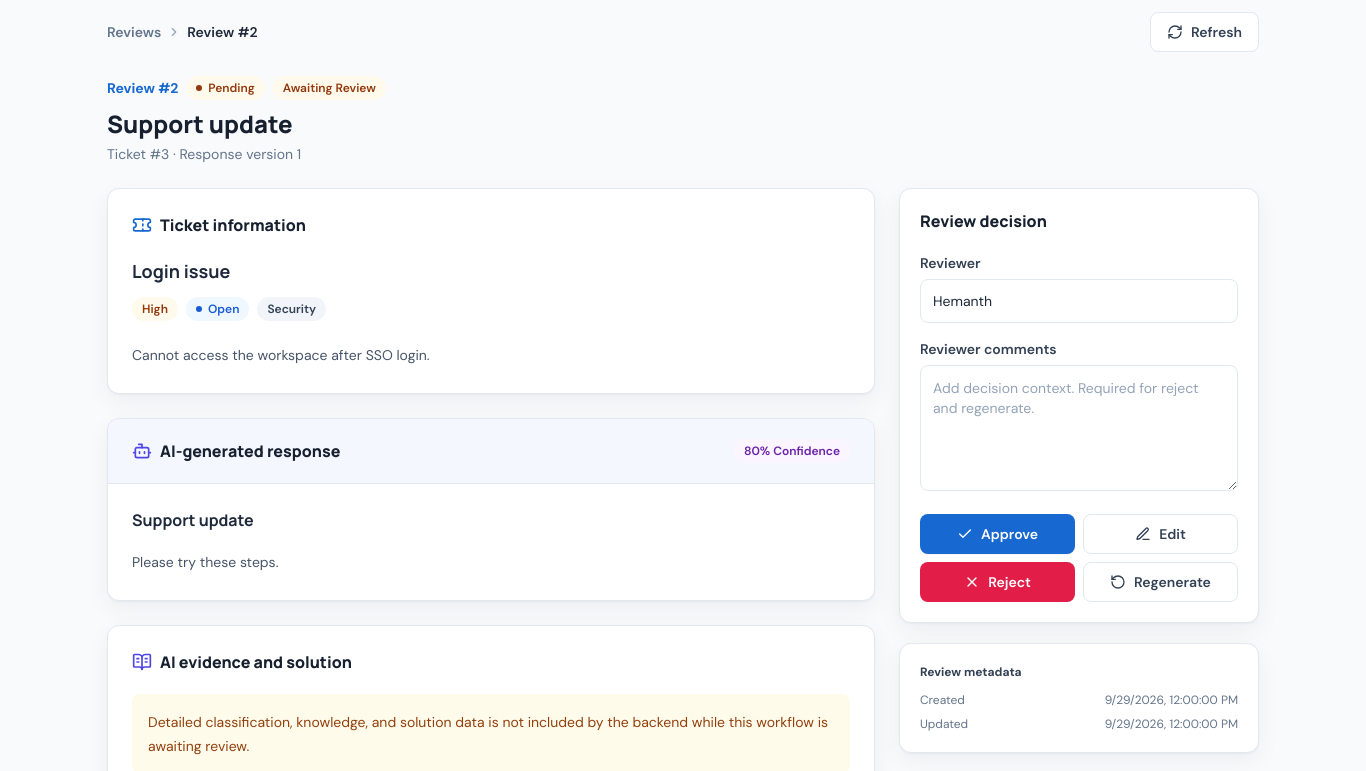
Test case: ReviewDetailsPage › loads a pending review and submits approval
Expected: the text "Please try these steps." is shown, [132, 553, 278, 571]
Click the button "Approve": (998, 534) [920, 514, 1075, 554]
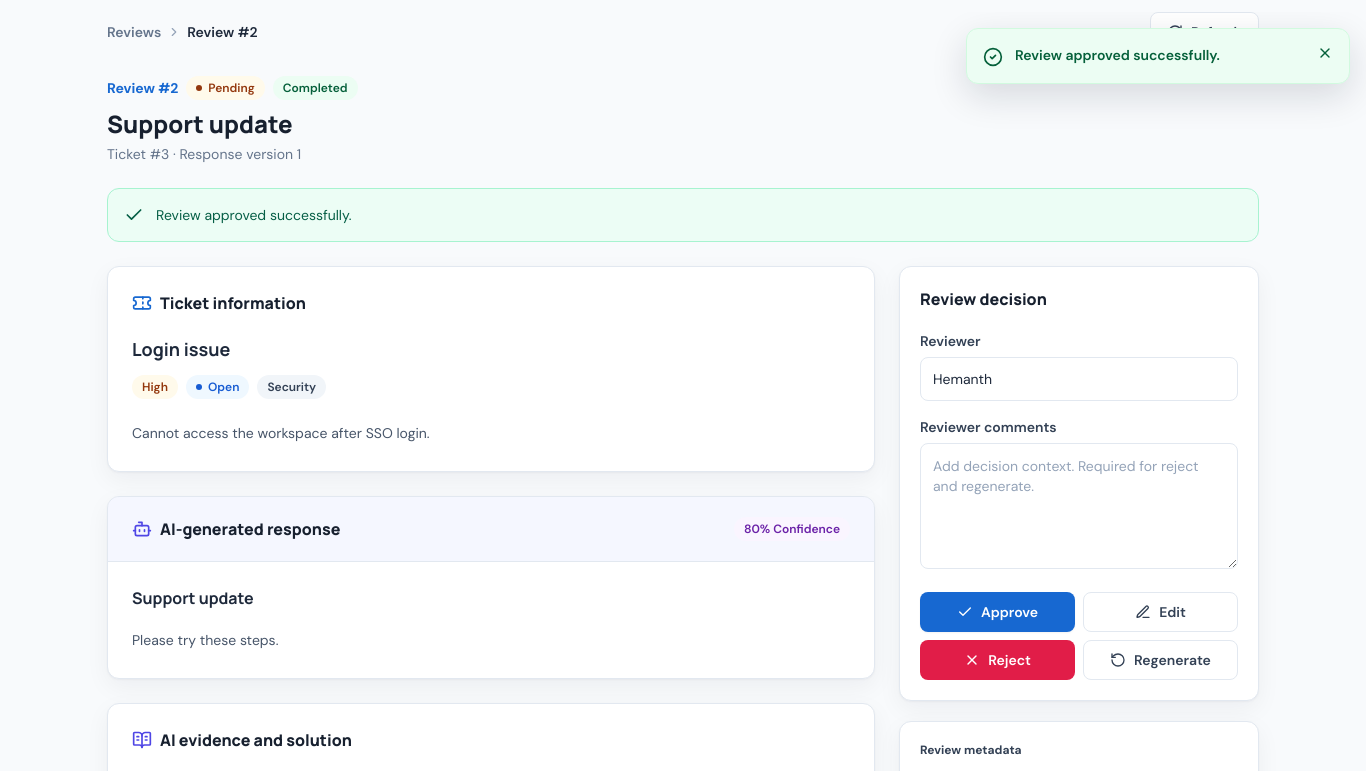
Expected: the text "Review approved successfully." below "Ticket #" is shown, [156, 206, 352, 224]
